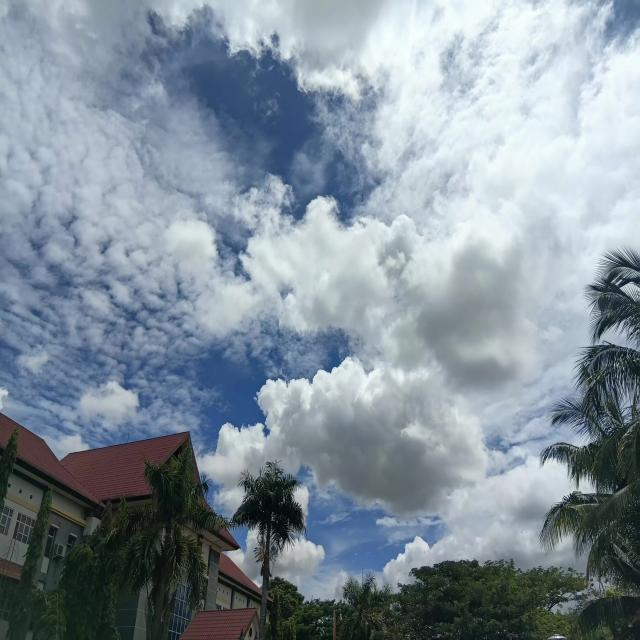cumulus: (246, 4, 557, 460), (11, 2, 231, 410), (576, 40, 637, 232)
